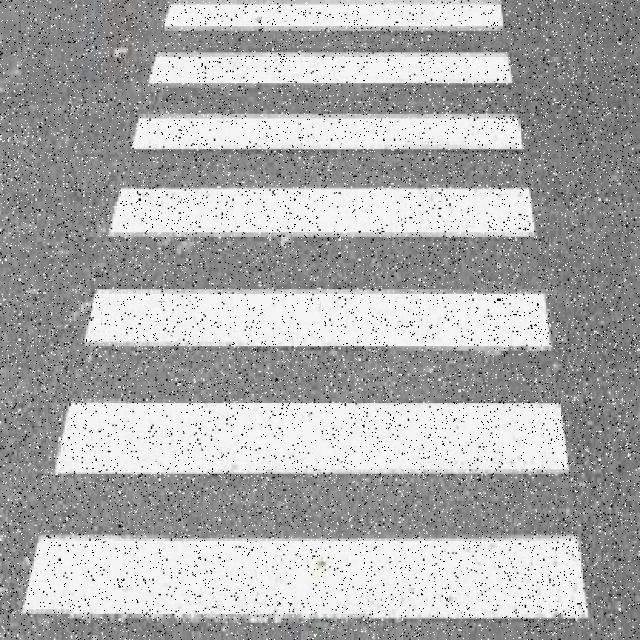crosswalk: (20, 0, 591, 623)
